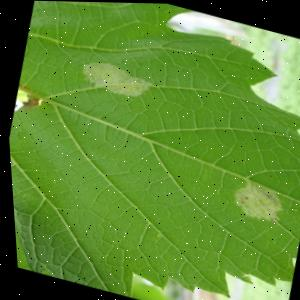Folha: (0, 0, 300, 300)
Fungo: (162, 3, 250, 48), (75, 55, 150, 103), (224, 177, 283, 225), (9, 90, 42, 119), (16, 93, 40, 113)
